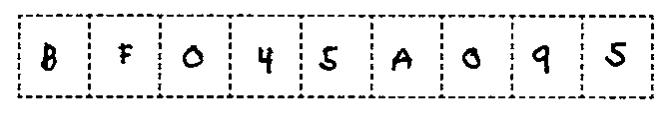0: (173, 42, 211, 74), (456, 40, 490, 75)
4: (254, 39, 280, 81)
5: (598, 36, 632, 71), (313, 43, 347, 77)
9: (523, 39, 556, 78)
A: (387, 44, 419, 78)
B: (34, 37, 63, 79)
F: (110, 38, 140, 71)
